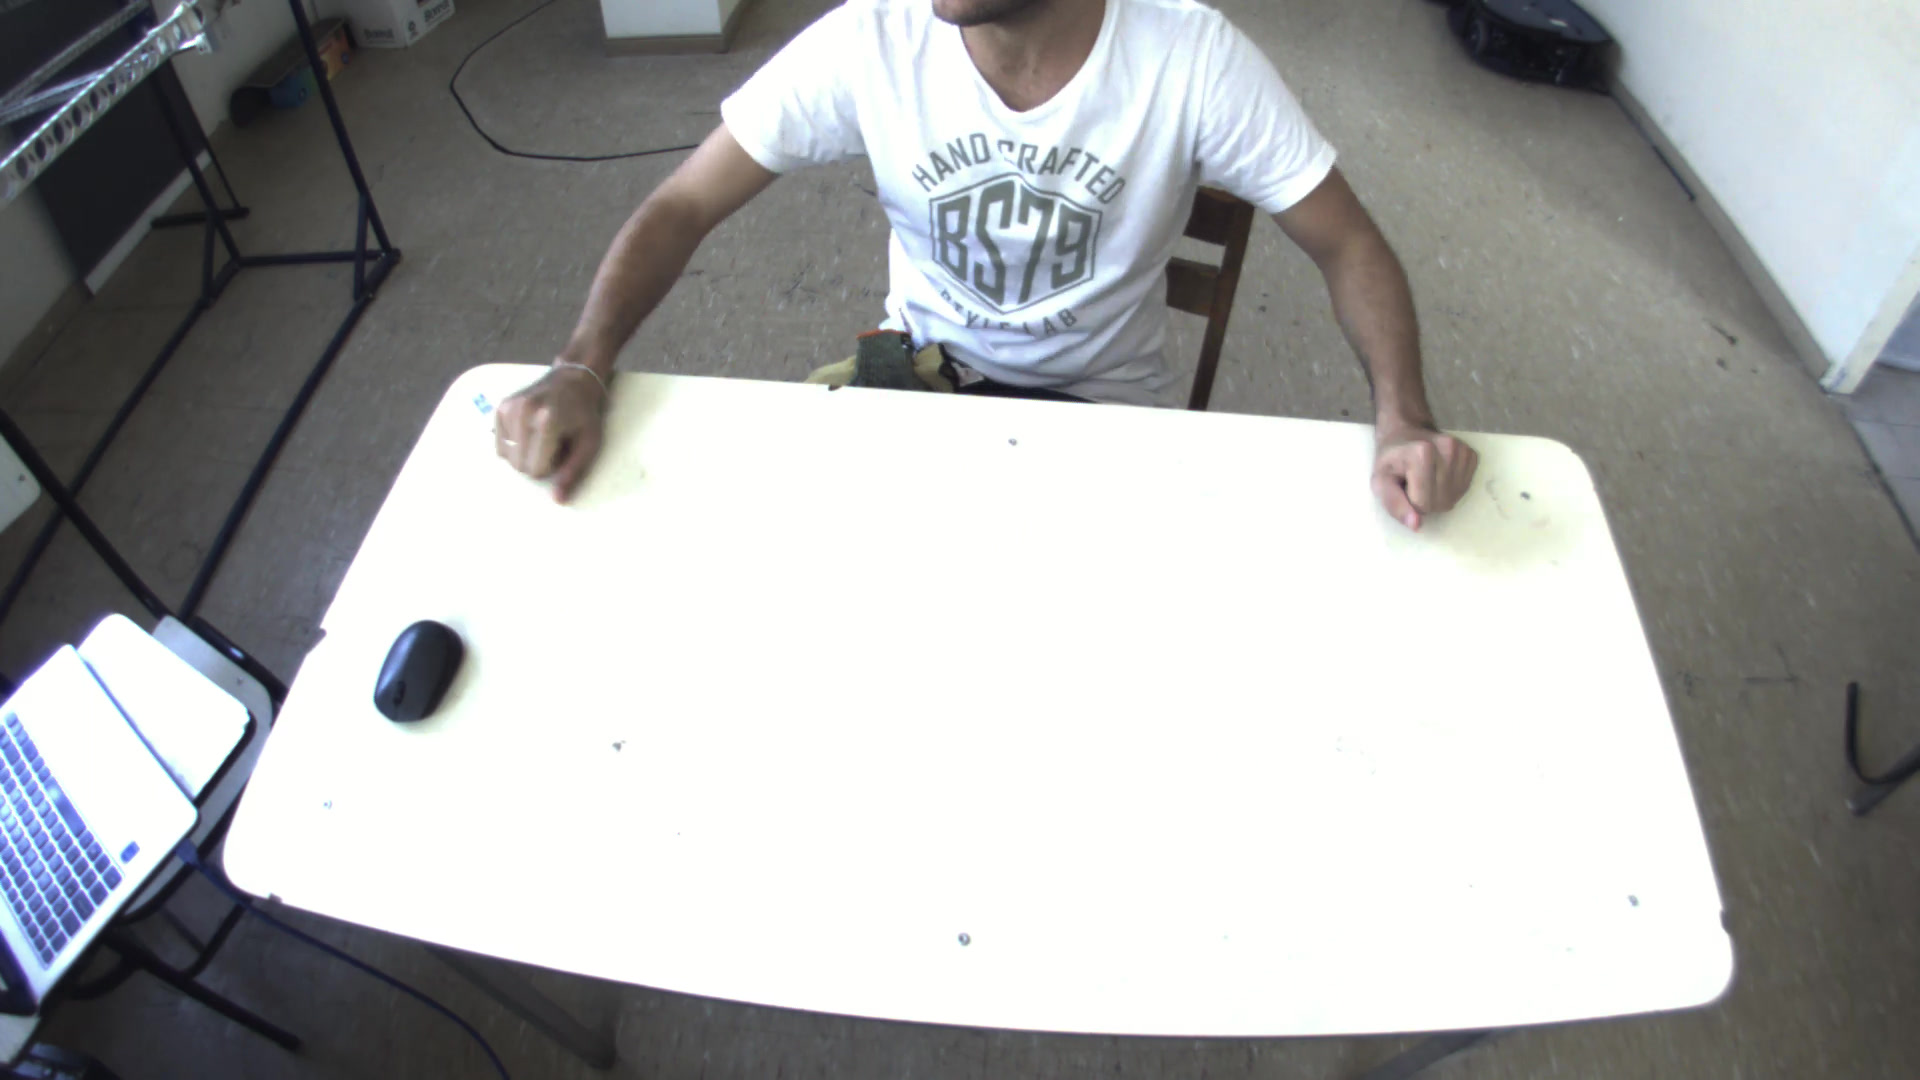hand: (476, 343, 632, 502), (1360, 405, 1490, 527)
